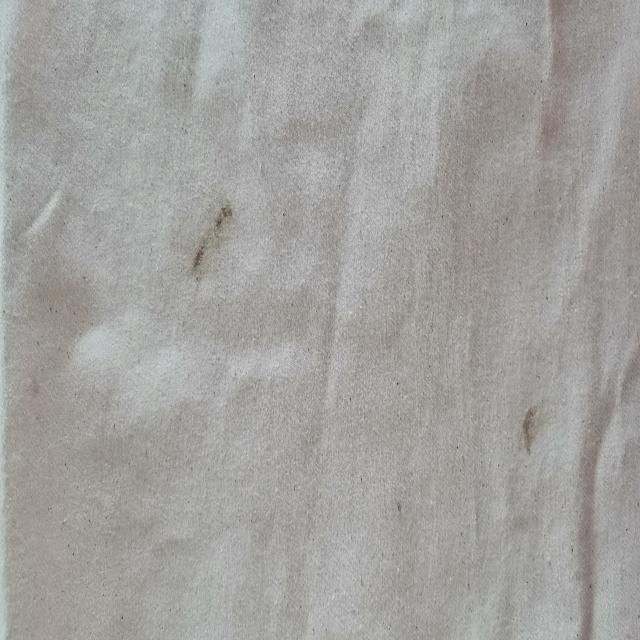taaaches: (186, 185, 238, 291), (519, 392, 546, 467)
